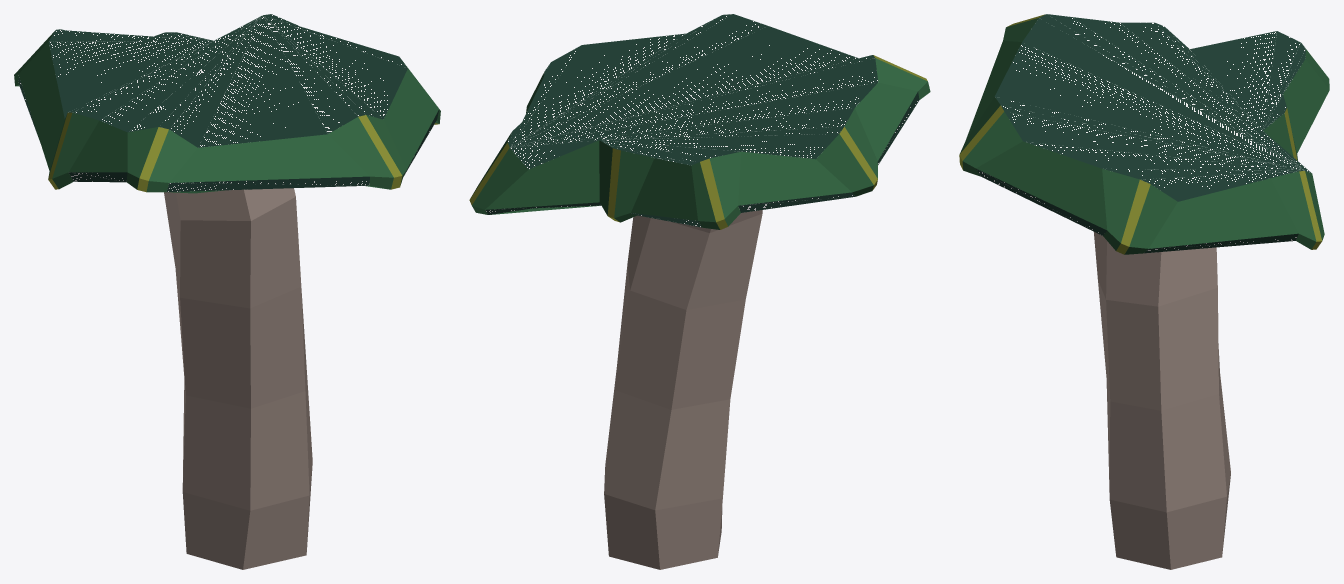
File: CoconutPalm03_DFS.fbx
3 renders of one model, left to right at view 1: azimuth 30°, elevation 25°; view 2: azimuth 150°, elevation 25°; view 3: azimuth 270°, elevation 25°, orthographic. The views are drawn at different scales.
Parts seen in each view (by area): view 1: Palm3.001; view 2: Palm3.001; view 3: Palm3.001.
Boxes of the visible parts, box(x1,y1,x2,y2) form: Palm3.001: box(14, 14, 440, 569); Palm3.001: box(469, 14, 930, 569); Palm3.001: box(959, 14, 1329, 569).
Bounding box in the file's own units: 191 × 243 × 177.
